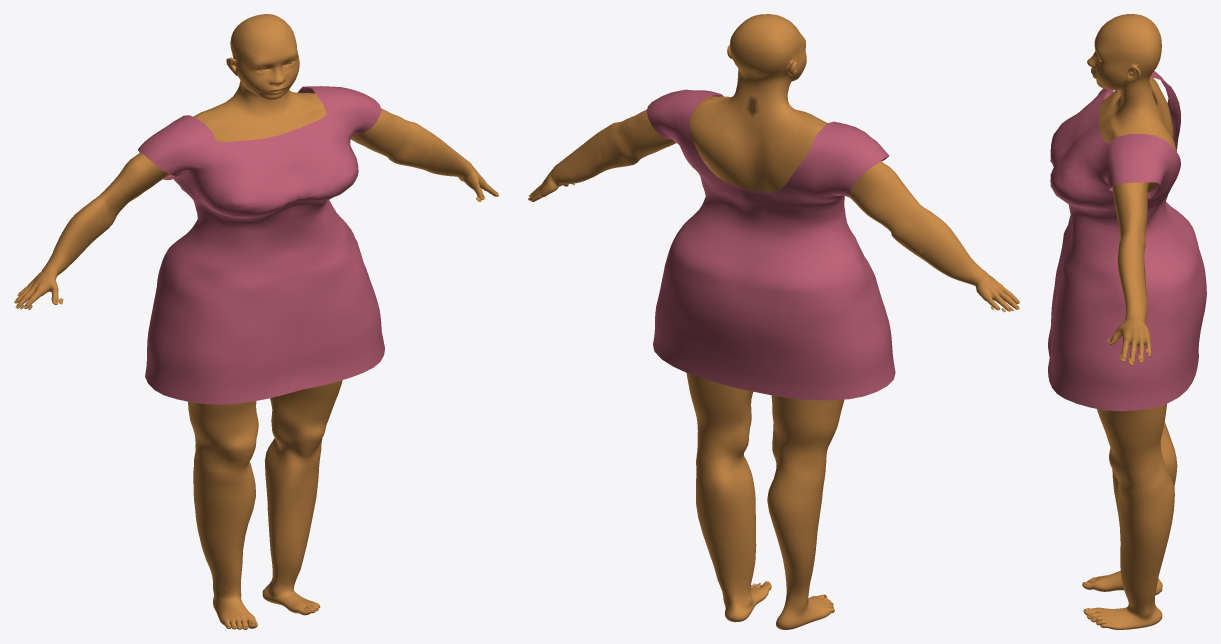
Rendered from dress7.glb.
3 renders of one model, left to right at view 1: azimuth 30°, elevation 25°; view 2: azimuth 150°, elevation 25°; view 3: azimuth 270°, elevation 25°, orthographic.
Parts seen in each view (by area): view 1: Jennifer.F_Dress_01, Body; view 2: Body, Jennifer.F_Dress_01; view 3: Jennifer.F_Dress_01, Body.
Part boxes in pixels (bbox=[...]): Jennifer.F_Dress_01: bbox=[138, 86, 384, 404]; Body: bbox=[14, 14, 499, 629]; Body: bbox=[528, 14, 1019, 629]; Jennifer.F_Dress_01: bbox=[646, 89, 895, 400]; Jennifer.F_Dress_01: bbox=[1048, 71, 1206, 411]; Body: bbox=[1082, 14, 1177, 629].
Size of the model in its own units: 1.6 by 1.88 by 0.4539.
